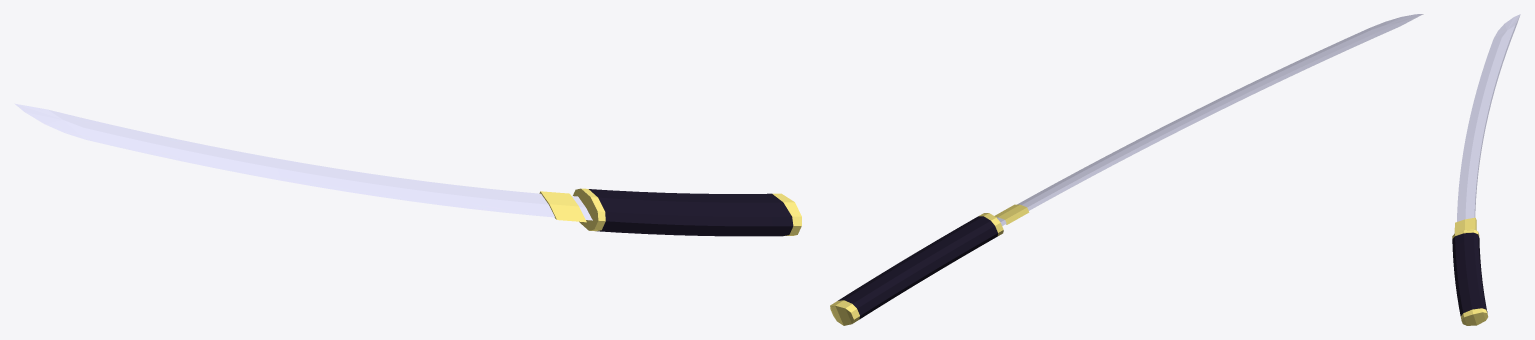
Rendered from katana.obj.
The picture shows the model from 3 angles, left to right: view 1: azimuth 30°, elevation 25°; view 2: azimuth 210°, elevation 25°; view 3: azimuth 270°, elevation 25°; orthographic projection. The views are drawn at different scales.
Visible parts, largest first — view 1: Katana_meKatana; view 2: Katana_meKatana; view 3: Katana_meKatana.
Part boxes in pixels (x1,y1,x2,y2): Katana_meKatana: (14,103,801,236); Katana_meKatana: (830,14,1423,325); Katana_meKatana: (1452,14,1520,325).
Size of the model in its own units: 12.51 by 4.4 by 2.02.
Materials: 3 (3 with a texture image).
